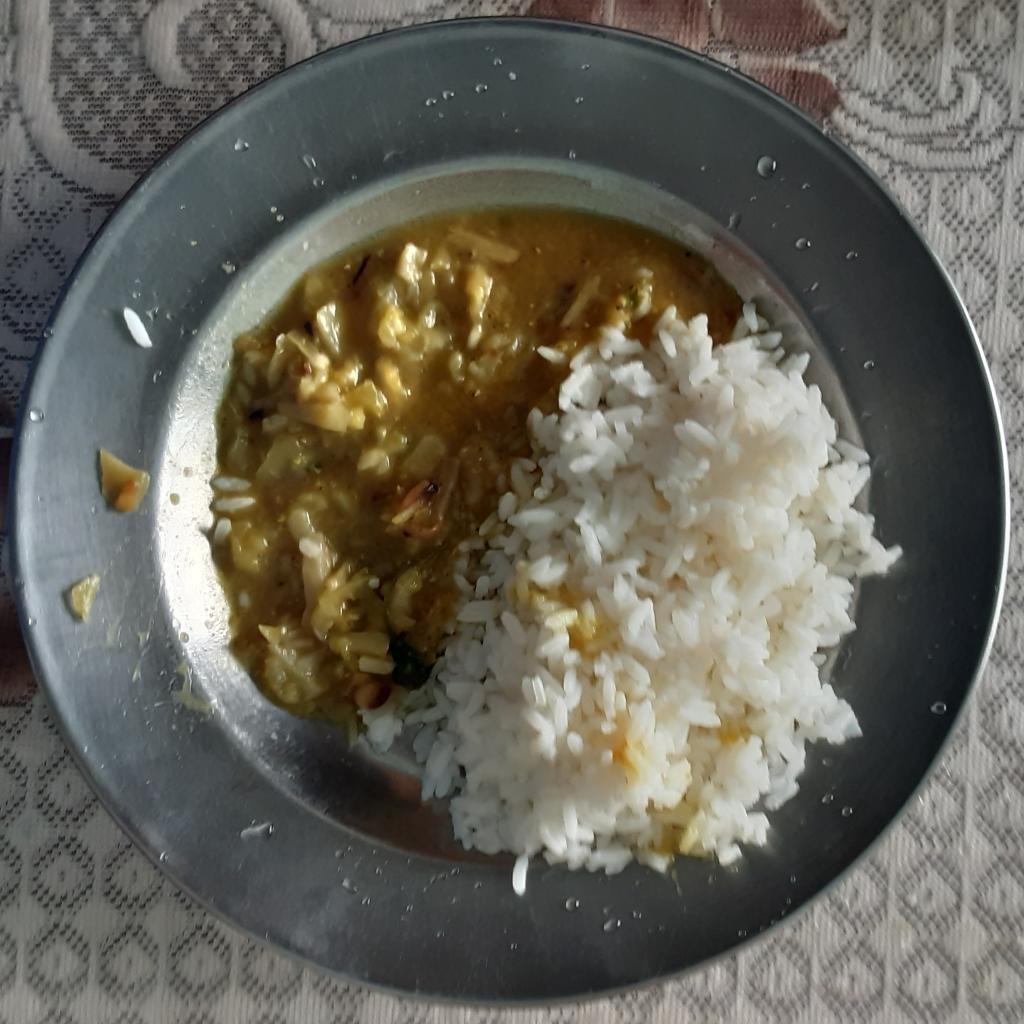carrot: (396, 481, 437, 541)
daal: (239, 207, 750, 486), (212, 392, 461, 682)
dundol: (244, 515, 429, 713)
potato: (229, 222, 521, 523)
rice: (344, 306, 905, 899), (208, 473, 262, 552)
